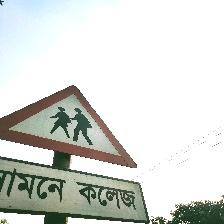College-in-front: (0, 74, 160, 224)
